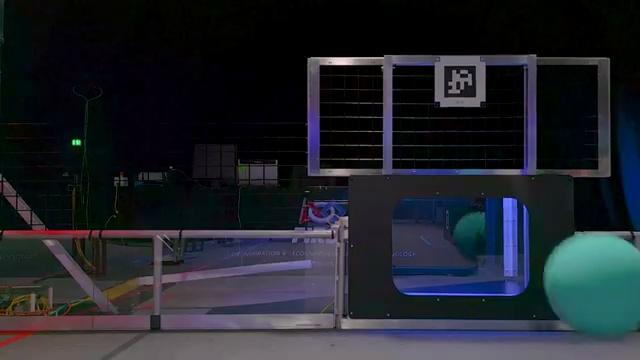ALGAE: (542, 231, 638, 338)
